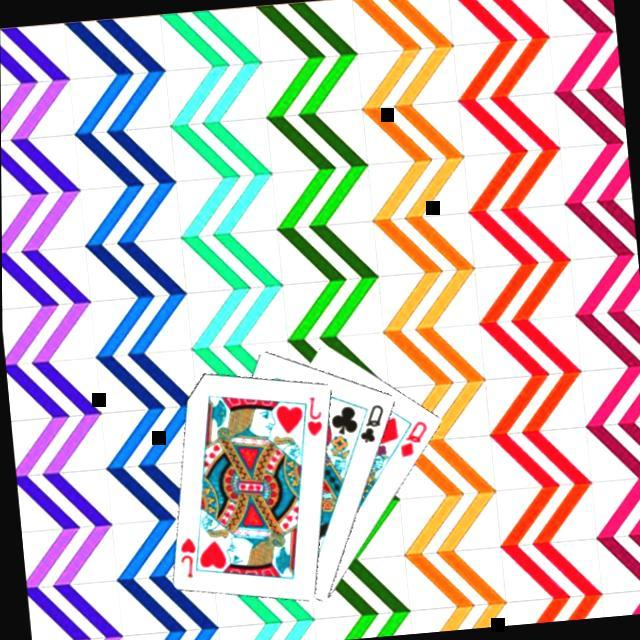JH: (176, 535, 202, 582), (303, 392, 328, 440)
QC: (355, 400, 391, 447)
QD: (395, 417, 433, 462)
